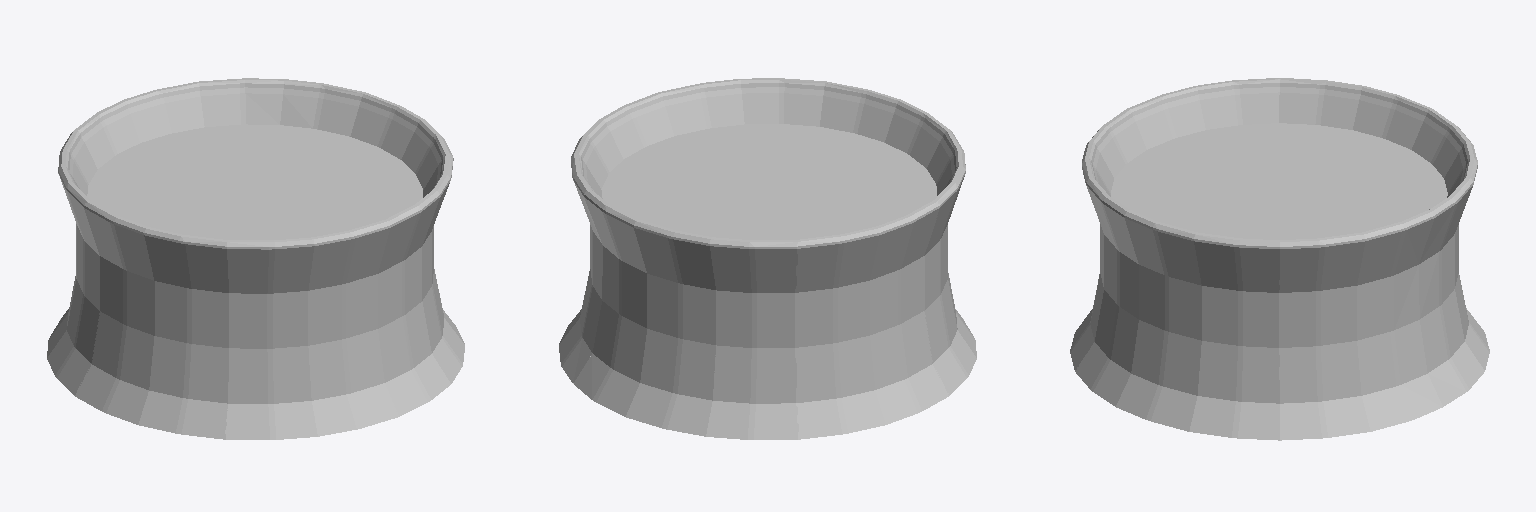
The model's file is wheel_hub_right.obj.
3 renders of one model, left to right at view 1: azimuth 30°, elevation 25°; view 2: azimuth 150°, elevation 25°; view 3: azimuth 270°, elevation 25°, orthographic.
Parts seen in each view (by area): view 1: sedan_tirehub_left_Circle.002; view 2: sedan_tirehub_left_Circle.002; view 3: sedan_tirehub_left_Circle.002.
Part boxes in pixels (bbox=[...]): sedan_tirehub_left_Circle.002: bbox=[47, 78, 464, 439]; sedan_tirehub_left_Circle.002: bbox=[559, 78, 976, 439]; sedan_tirehub_left_Circle.002: bbox=[1070, 78, 1489, 440].
Bounding box in the file's own units: 0.406 × 0.205 × 0.406.